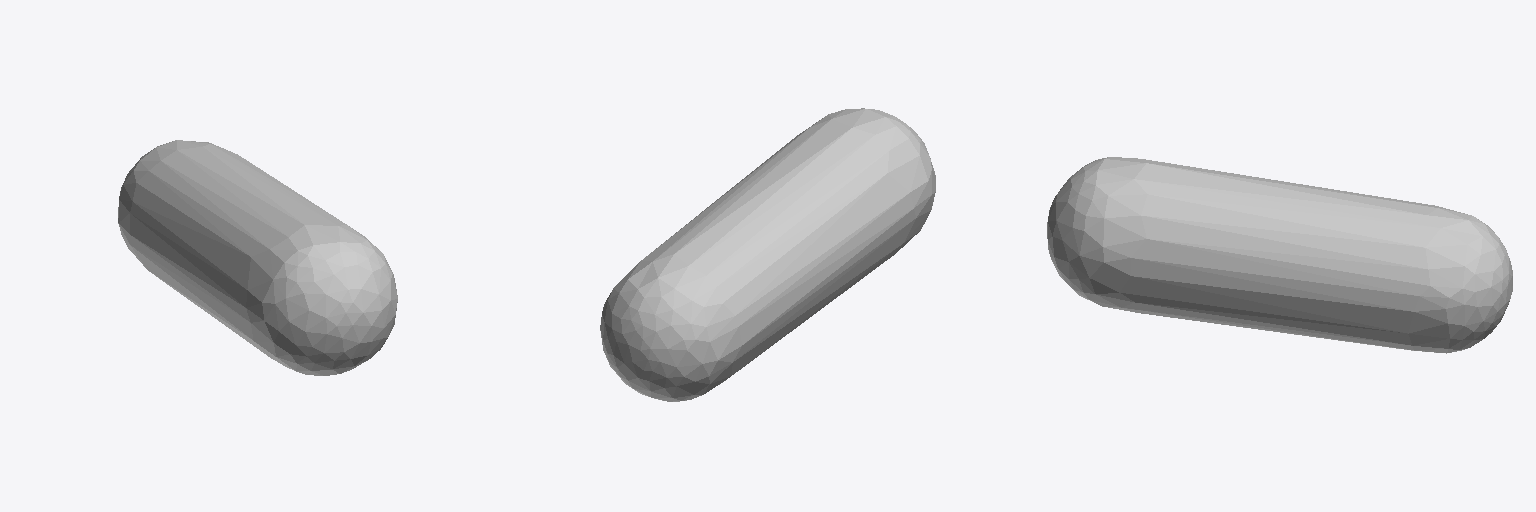
Rendered from trunk of left thoraco-acromial artery.obj.
The picture shows the model from 3 angles: view 1: azimuth 30°, elevation 25°; view 2: azimuth 150°, elevation 25°; view 3: azimuth 270°, elevation 25°; orthographic projection.
Parts seen in each view (by area): view 1: grp1; view 2: grp1; view 3: grp1.
Part boxes in pixels (x1,y1,x2,y2): grp1: (118,140,397,375); grp1: (600,108,935,401); grp1: (1047,157,1512,353).
Size of the model in its own units: 4.86 by 5 by 12.57.